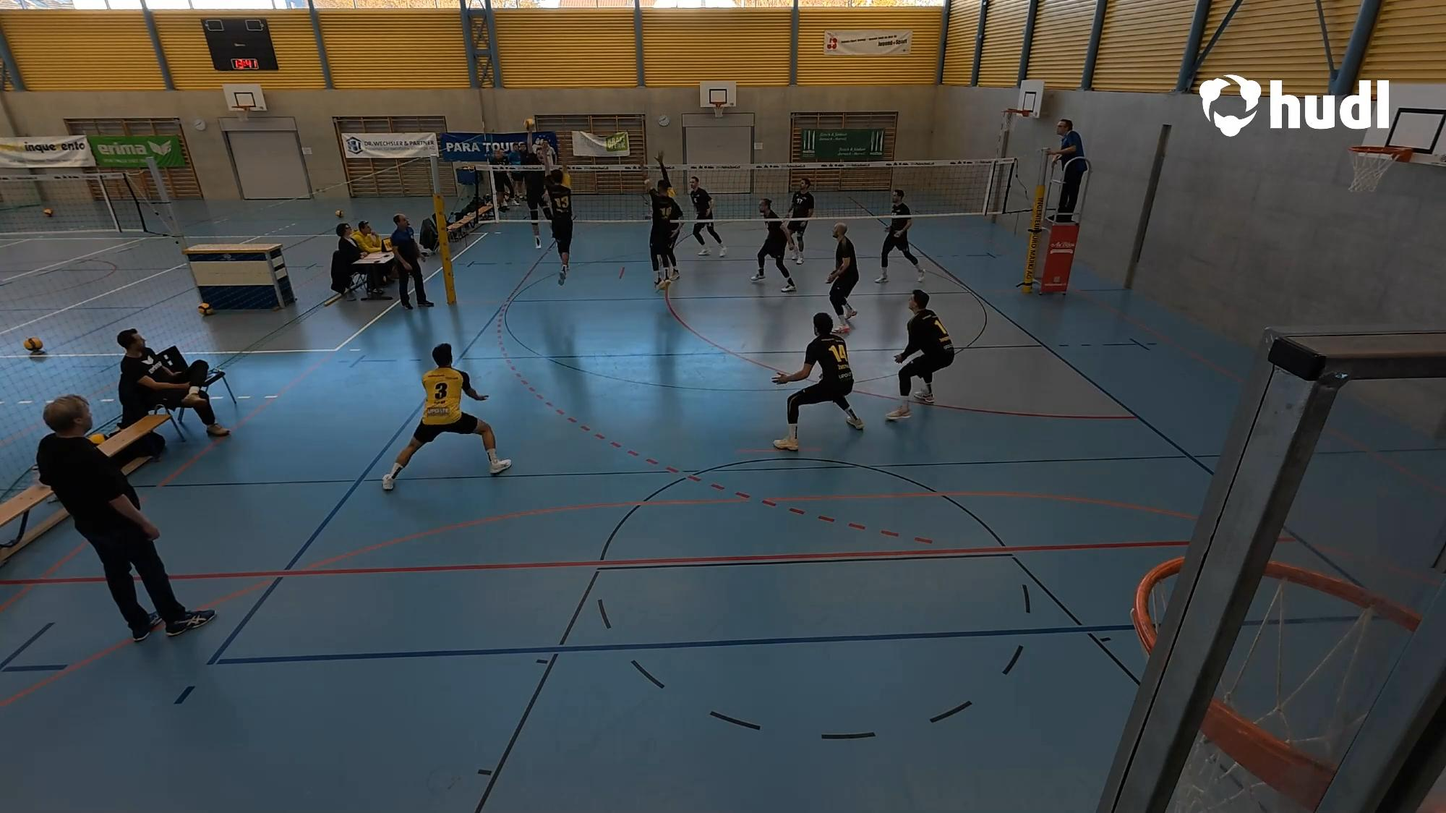attacco: (515, 118, 550, 252)
muro: (639, 158, 686, 298), (541, 148, 583, 288)
